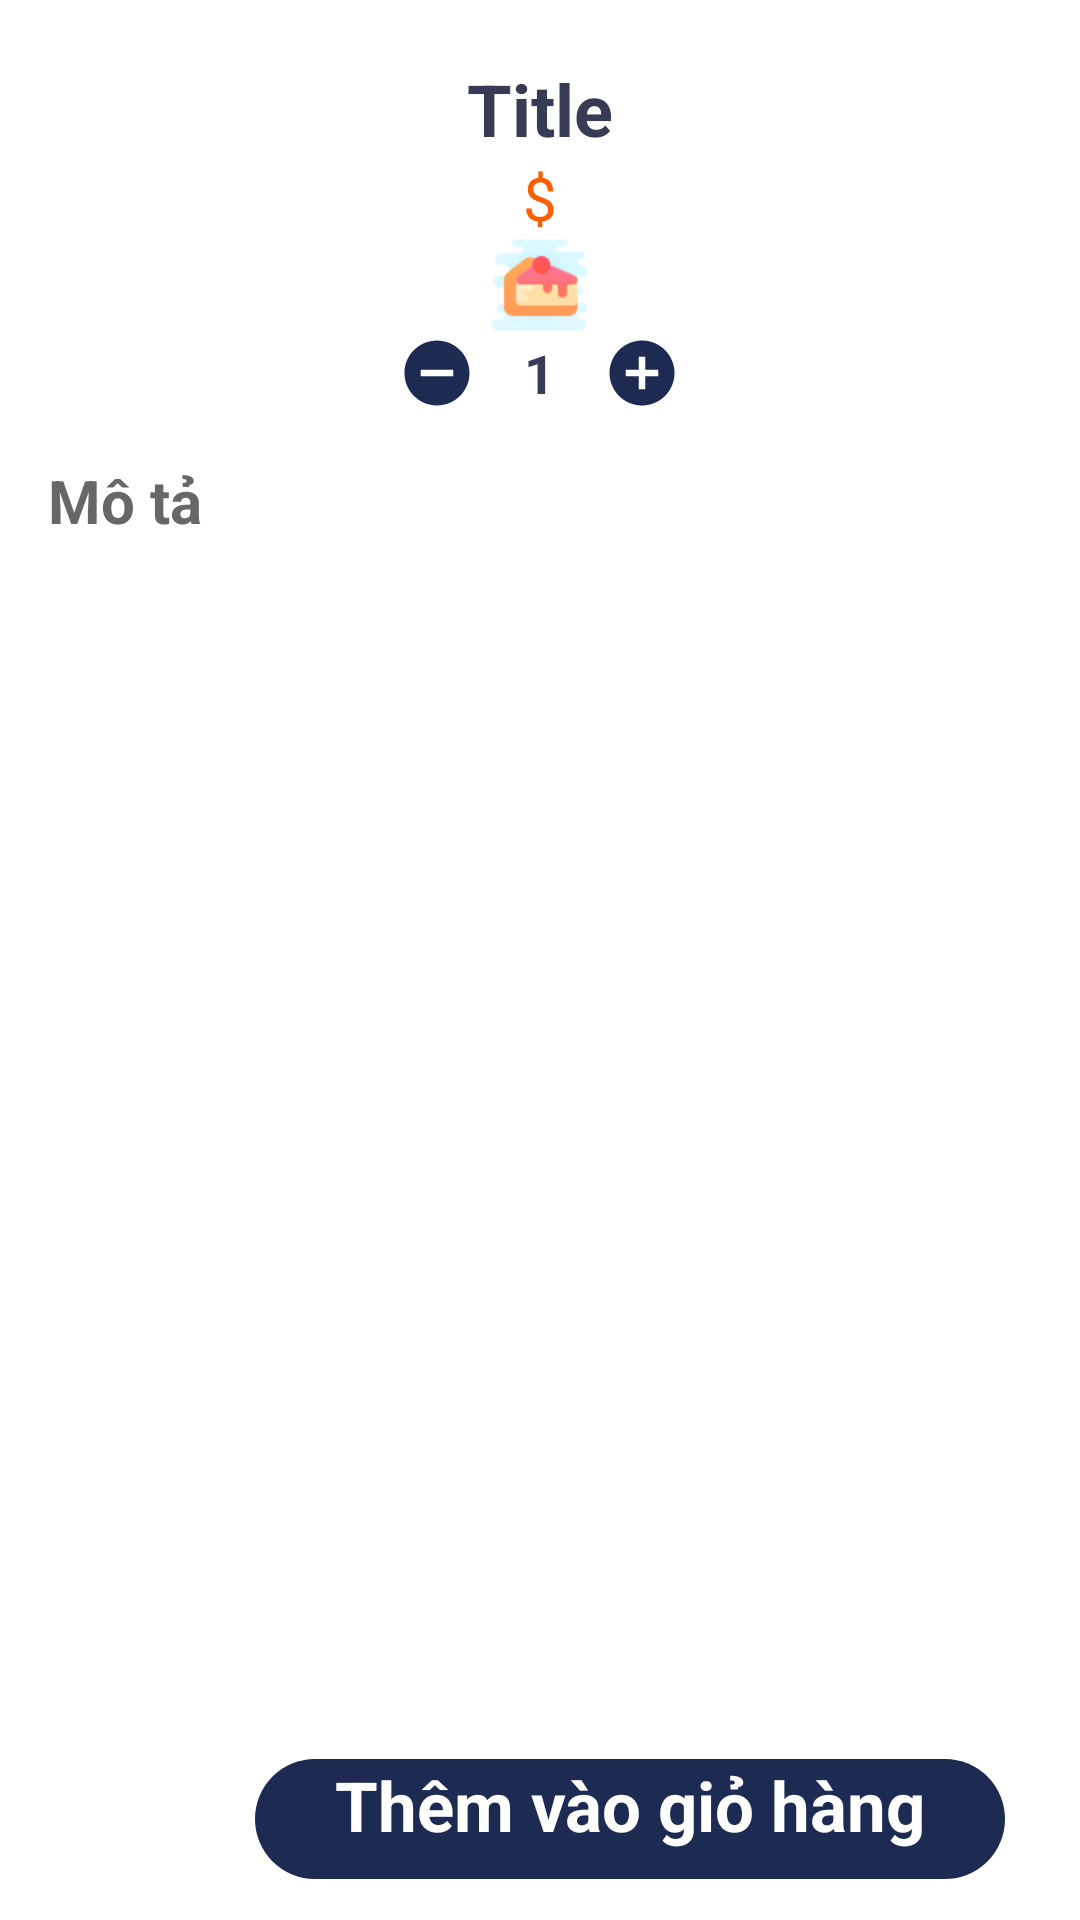

Icons on this 1080 x 1920 Android screen, each with its box as bbox=(x1, y1, x2, y2):
add circle: bbox=(609, 340, 675, 406)
remove circle: bbox=(404, 340, 470, 406)
